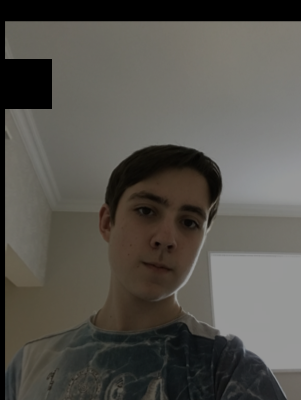without_mask: (109, 192, 210, 303)
